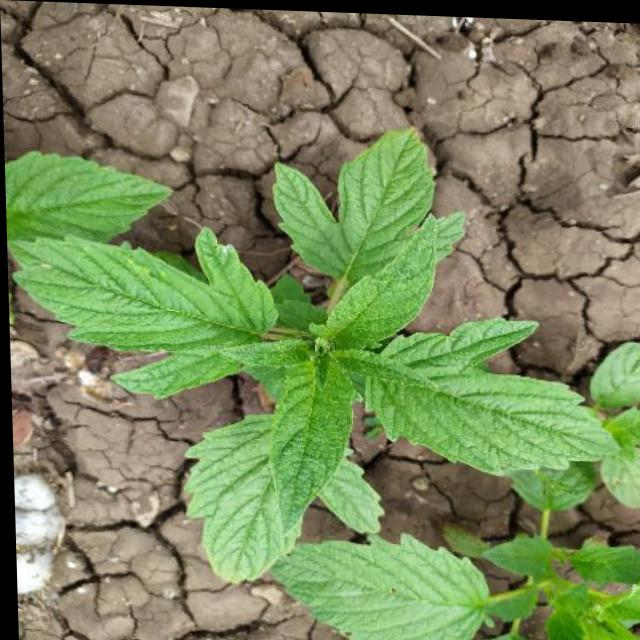crop: (3, 99, 640, 558)
